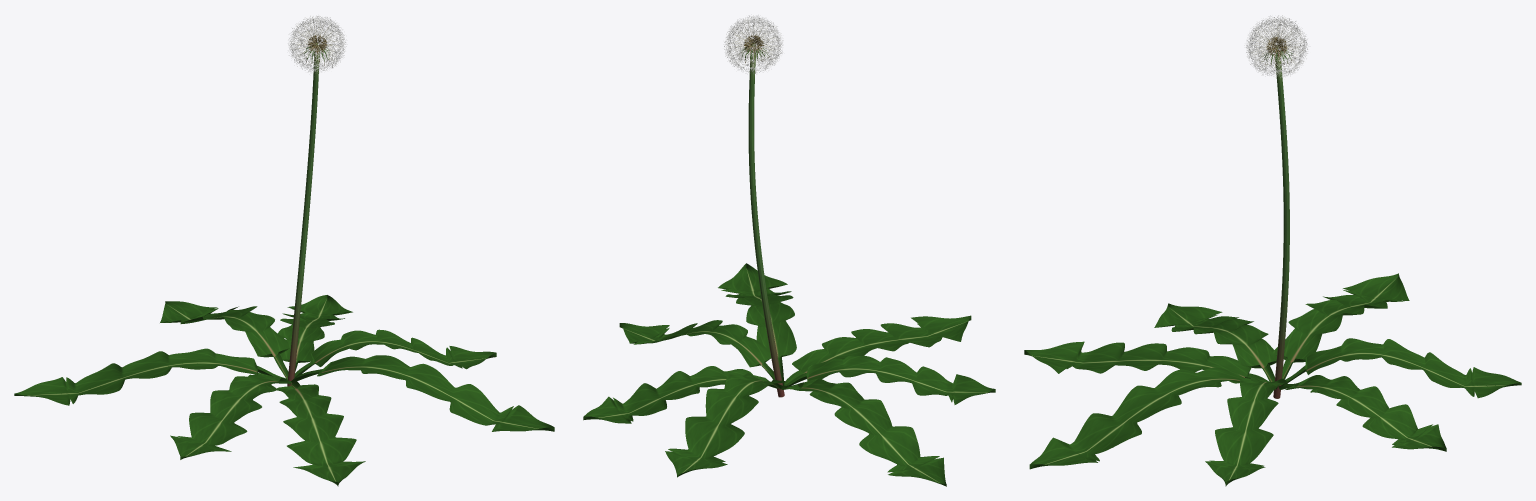
Rendered from dandelion.glb.
The picture shows the model from 3 angles, left to right: view 1: azimuth 30°, elevation 25°; view 2: azimuth 150°, elevation 25°; view 3: azimuth 270°, elevation 25°; orthographic projection. The views are drawn at different scales.
Visible parts, largest first — view 1: Leaves, Pappus, Stem, Seeds; view 2: Leaves, Pappus, Stem, Seeds; view 3: Leaves, Pappus, Stem, Seeds.
Part boxes in pixels (box(x1,y1,x2,y2)): Leaves: box(14, 295, 554, 486); Pappus: box(288, 15, 346, 72); Stem: box(287, 43, 319, 386); Seeds: box(293, 21, 341, 66); Leaves: box(583, 263, 995, 486); Pappus: box(723, 15, 783, 73); Stem: box(748, 43, 784, 397); Seeds: box(730, 22, 777, 67); Leaves: box(1024, 273, 1521, 486); Pappus: box(1246, 15, 1308, 77); Stem: box(1273, 46, 1289, 398); Seeds: box(1251, 23, 1302, 71).
Size of the model in its own units: 0.3002 by 0.2619 by 0.2991.
Materials: 5 (4 with a texture image).
